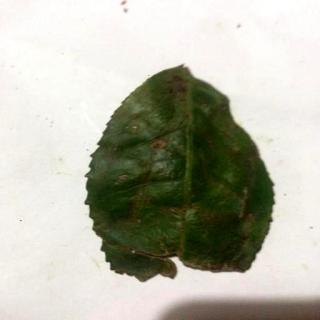Red Leaf Spot: (85, 66, 275, 284)
